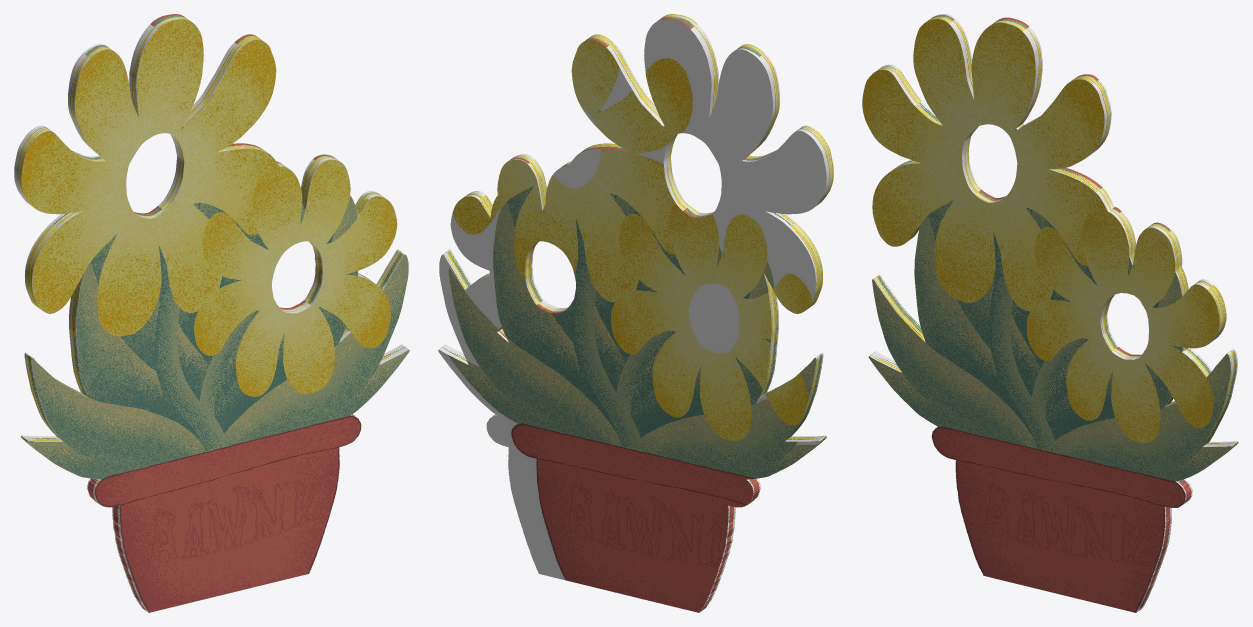
File: blume.glb
3 views of the same model, side by side, from view 1: azimuth 30°, elevation 25°; view 2: azimuth 150°, elevation 25°; view 3: azimuth 330°, elevation 25° (orthographic). The views are drawn at different scales.
Visible parts, largest first — view 1: Path 1, Path 1.1; view 2: Path 1, Path 1.1; view 3: Path 1, Path 1.1.
Boxes of the visible parts, left/top/right/bottom form: Path 1: left=21, top=19, right=409, bottom=612; Path 1.1: left=14, top=14, right=408, bottom=612; Path 1: left=438, top=19, right=826, bottom=612; Path 1.1: left=439, top=14, right=833, bottom=612; Path 1: left=862, top=19, right=1231, bottom=612; Path 1.1: left=869, top=14, right=1238, bottom=612.
Bounding box in the file's own units: 1.39 × 2 × 0.0448.
Materials: 1 (1 with a texture image).
